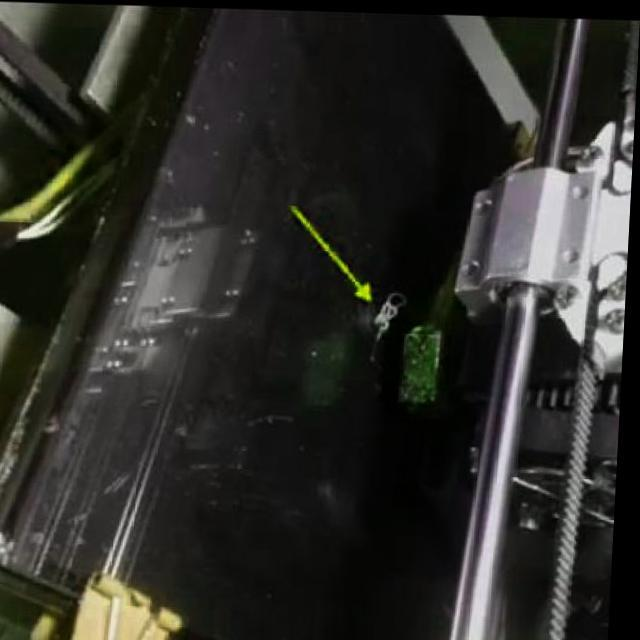spaghetti: (372, 285, 414, 340)
